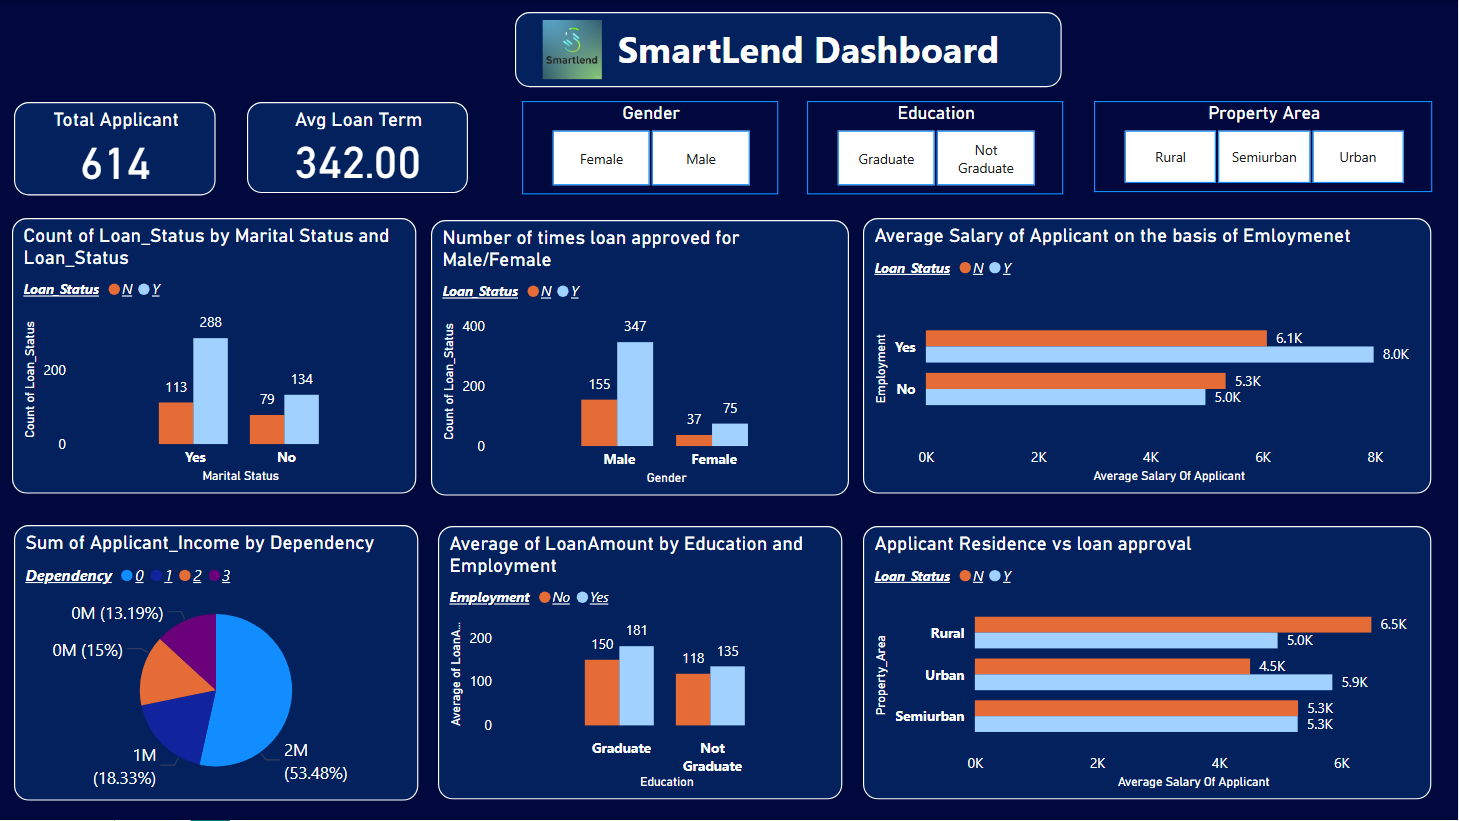

This screenshot's page, from the dashboard's own definition file:
{"tool":"powerbi","page":{"name":"Page 1","canvas":[1280,720],"ordinal":0},"visuals":[{"type":"card","title":"Total Applicant","fields":{"Values":["loan_data_cleaned.Total Loan Applications"]},"box":[12.1,89.3,177.3,82],"z":0},{"type":"card","title":"Avg Loan Term","fields":{"Values":["Avg(loan_data_cleaned.Loan_Amount_Term)"]},"box":[217.2,89.3,194.2,79.6],"z":1000},{"type":"slicer","title":"Gender","fields":{"Values":["loan_data_cleaned.Gender"]},"box":[458.3,88.7,224.8,81.7],"z":2000},{"type":"slicer","title":"Education","fields":{"Values":["loan_data_cleaned.Education"]},"box":[708.6,88.7,224.8,81.7],"z":3000},{"type":"slicer","title":"Property Area","fields":{"Values":["loan_data_cleaned.Property_Area"]},"box":[960.6,88.7,296.8,79.9],"z":4000},{"type":"clusteredColumnChart","fields":{"Category":["loan_data_cleaned.Marital Status"],"Y":["CountNonNull(loan_data_cleaned.Loan_Status)"],"Series":["loan_data_cleaned.Loan_Status"]},"box":[10.9,191.8,354.7,242.5],"z":5000},{"type":"textbox","box":[452.4,10.9,480.2,66.4],"z":6000},{"type":"image","box":[471.7,10.9,61.5,66.4],"z":7000},{"type":"clusteredColumnChart","title":"Number of times loan approved for Male/Female","fields":{"Category":["loan_data_cleaned.Gender"],"Y":["CountNonNull(loan_data_cleaned.Loan_Status)"],"Series":["loan_data_cleaned.Loan_Status"]},"box":[378.8,193,366.8,242.5],"z":8000},{"type":"clusteredBarChart","title":"Average Salary of Applicant on the basis of Emloymenet","fields":{"Category":["loan_data_cleaned.Employment"],"Y":["Avg(loan_data_cleaned.Applicant_Income)"],"Series":["loan_data_cleaned.Loan_Status"]},"box":[757.6,191.8,499.5,242.5],"z":9000},{"type":"clusteredBarChart","title":"Applicant Residence vs loan approval","fields":{"Category":["loan_data_cleaned.Property_Area"],"Y":["Avg(loan_data_cleaned.Applicant_Income)"],"Series":["loan_data_cleaned.Loan_Status"]},"box":[757.6,462.1,499.5,240.1],"z":10000},{"type":"clusteredColumnChart","fields":{"Category":["loan_data_cleaned.Education"],"Y":["Avg(loan_data_cleaned.LoanAmount)"],"Series":["loan_data_cleaned.Employment"]},"box":[384.9,462.1,354.7,240.1],"z":11000},{"type":"pieChart","fields":{"Category":["loan_data_cleaned.Dependency"],"Y":["Sum(loan_data_cleaned.Applicant_Income)"]},"box":[12.1,460.9,354.7,242.5],"z":12000}]}

Visuals, with their boxes in screenshot pixels (x1, y1, x2, y2), scaled from the page's 1280x720 canvas onto the 1459x821 screenshot:
"Total Applicant" card: BBox(14, 102, 216, 195)
"Avg Loan Term" card: BBox(248, 102, 469, 193)
"Gender" slicer: BBox(522, 101, 779, 194)
"Education" slicer: BBox(808, 101, 1064, 194)
"Property Area" slicer: BBox(1095, 101, 1433, 192)
clusteredColumnChart - loan_data_cleaned.Marital Status x CountNonNull(loan_data_cleaned.Loan_Status): BBox(12, 219, 417, 495)
textbox: BBox(516, 12, 1063, 88)
image: BBox(538, 12, 608, 88)
"Number of times loan approved for Male/Female" clusteredColumnChart: BBox(432, 220, 850, 497)
"Average Salary of Applicant on the basis of Emloymenet" clusteredBarChart: BBox(864, 219, 1433, 495)
"Applicant Residence vs loan approval" clusteredBarChart: BBox(864, 527, 1433, 801)
clusteredColumnChart - loan_data_cleaned.Education x Avg(loan_data_cleaned.LoanAmount): BBox(439, 527, 843, 801)
pieChart - loan_data_cleaned.Dependency x Sum(loan_data_cleaned.Applicant_Income): BBox(14, 526, 418, 802)
